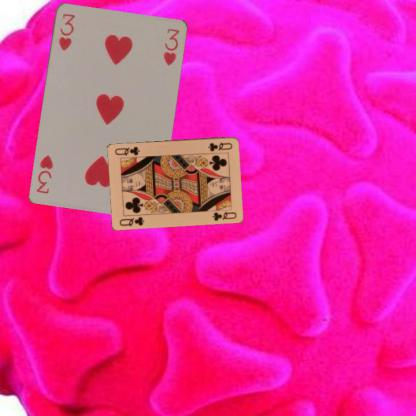3h: (56, 10, 76, 52)
Qc: (116, 214, 146, 227), (206, 139, 234, 152)
